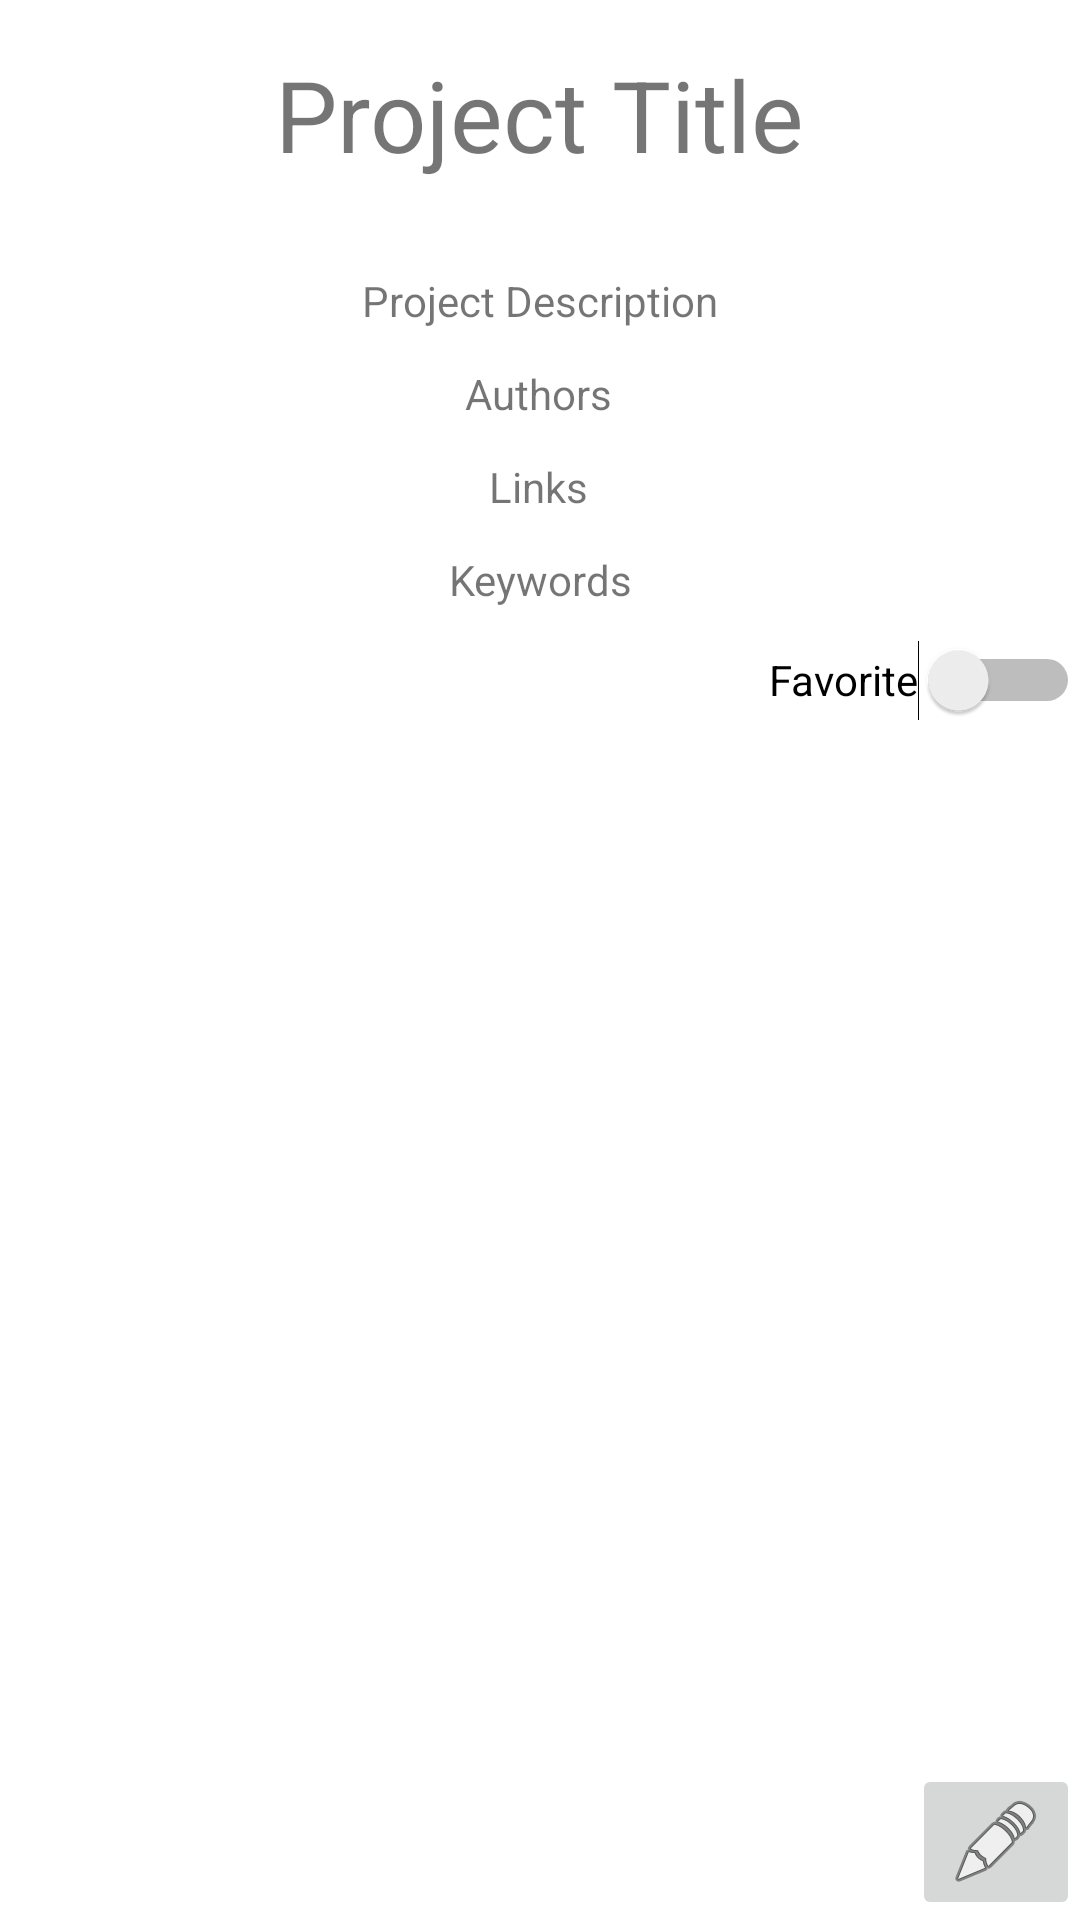

Icon click points for this 1080px x 1920px phone screenshot, format (x=x, y=y):
edit: (x=996, y=1842)
